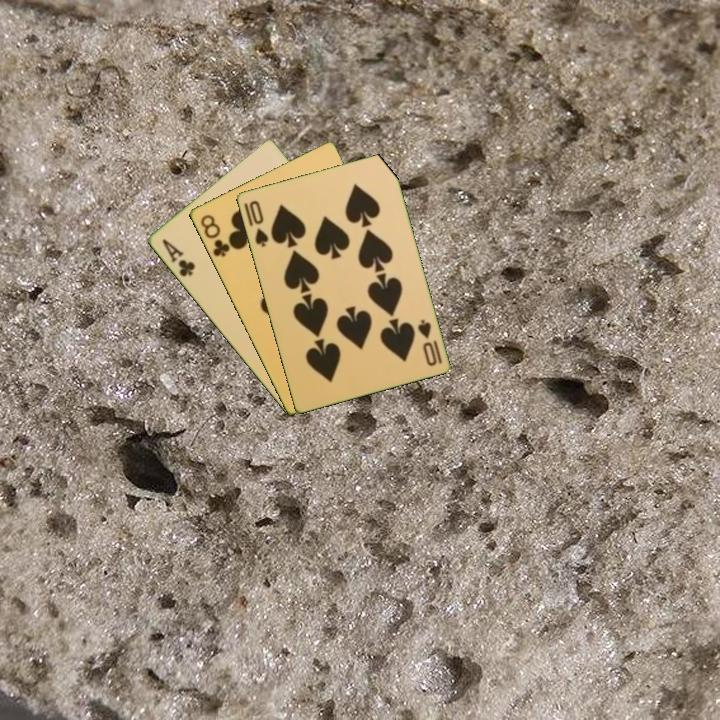10s: (414, 316, 445, 369), (245, 197, 271, 250)
8c: (196, 211, 233, 260)
Ac: (158, 235, 198, 280)
